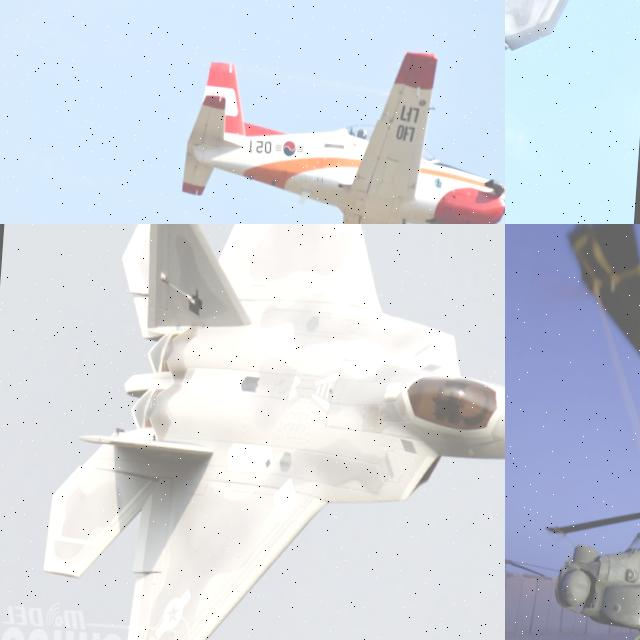Apache: (532, 224, 640, 640)
F22: (27, 224, 505, 640), (505, 0, 600, 224)
KT-1: (171, 32, 505, 224)
